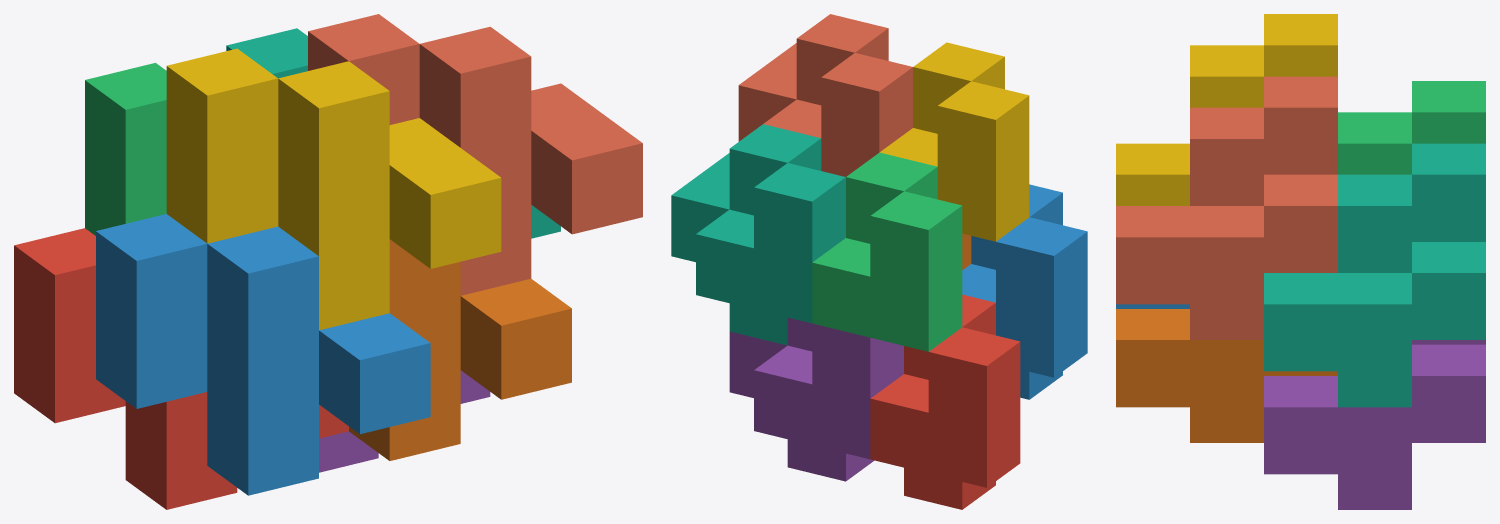
Rendered from tiling.obj.
The picture shows the model from 3 angles, left to right: view 1: azimuth 30°, elevation 25°; view 2: azimuth 150°, elevation 25°; view 3: azimuth 270°, elevation 25°; orthographic projection. The views are drawn at different scales.
Parts seen in each view (by area): view 1: copy_1_domain_2, copy_1_domain_4, copy_1_domain_8, copy_1_domain_1, copy_1_domain_6, copy_1_domain_3, copy_1_domain_7, copy_1_domain_5; view 2: copy_1_domain_7, copy_1_domain_3, copy_1_domain_1, copy_1_domain_5, copy_1_domain_4, copy_1_domain_8, copy_1_domain_2; view 3: copy_1_domain_7, copy_1_domain_8, copy_1_domain_5, copy_1_domain_6, copy_1_domain_4, copy_1_domain_3.
Part boxes in pixels (x1,y1,x2,y2): copy_1_domain_2: [96, 214, 430, 495]; copy_1_domain_4: [166, 48, 501, 330]; copy_1_domain_8: [308, 14, 642, 295]; copy_1_domain_1: [14, 228, 348, 509]; copy_1_domain_6: [349, 239, 571, 460]; copy_1_domain_3: [85, 63, 166, 235]; copy_1_domain_7: [226, 28, 560, 238]; copy_1_domain_5: [319, 370, 490, 472]; copy_1_domain_7: [671, 124, 845, 345]; copy_1_domain_3: [812, 152, 962, 351]; copy_1_domain_1: [870, 294, 1020, 509]; copy_1_domain_5: [729, 317, 903, 481]; copy_1_domain_4: [880, 42, 1029, 241]; copy_1_domain_8: [738, 14, 912, 176]; copy_1_domain_2: [962, 184, 1087, 399]; copy_1_domain_7: [1264, 143, 1485, 407]; copy_1_domain_8: [1116, 76, 1337, 339]; copy_1_domain_5: [1264, 340, 1485, 509]; copy_1_domain_6: [1116, 309, 1337, 442]; copy_1_domain_4: [1116, 14, 1337, 205]; copy_1_domain_3: [1338, 81, 1485, 174].
Bounding box in the file's own units: 6 × 6 × 5.
